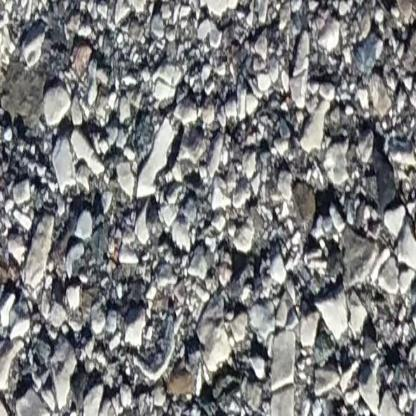Cracks: (349, 117, 416, 211)
